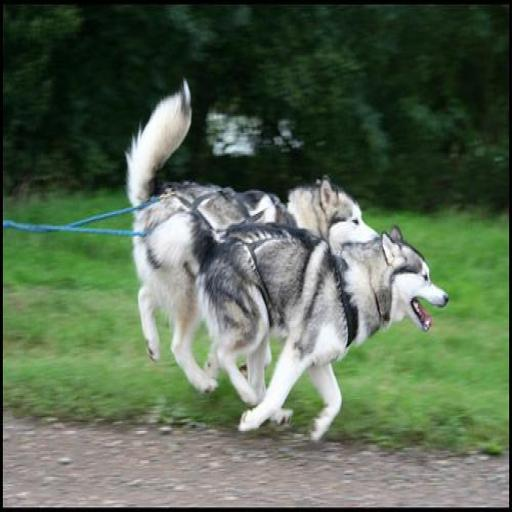dog_face: (376, 230, 451, 339), (308, 180, 374, 254)
